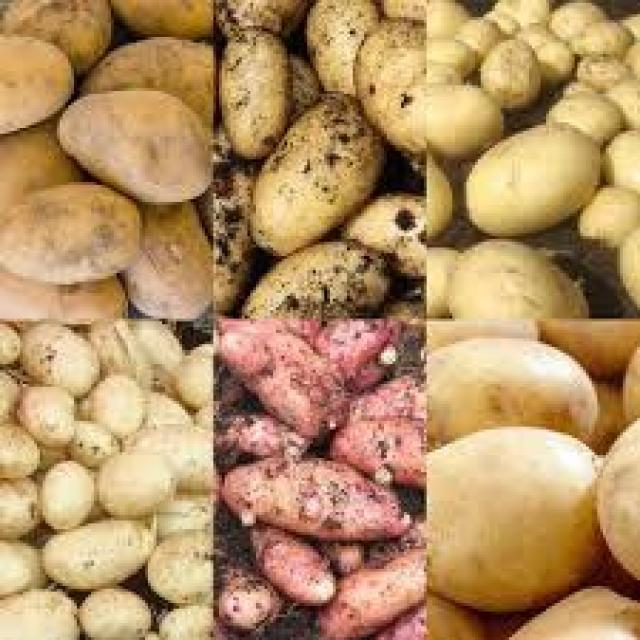potato: (426, 418, 606, 612), (245, 90, 398, 262), (457, 107, 610, 249), (428, 335, 603, 457), (48, 86, 224, 198), (2, 178, 148, 280), (442, 221, 590, 319), (235, 228, 388, 322), (345, 12, 426, 157), (216, 19, 290, 166), (36, 509, 155, 596), (0, 17, 80, 137), (426, 86, 516, 162), (17, 317, 98, 398), (472, 22, 550, 106), (30, 453, 99, 534), (101, 443, 171, 522), (82, 362, 150, 442), (140, 538, 215, 610), (19, 379, 82, 456), (547, 83, 625, 145), (63, 418, 122, 466)
